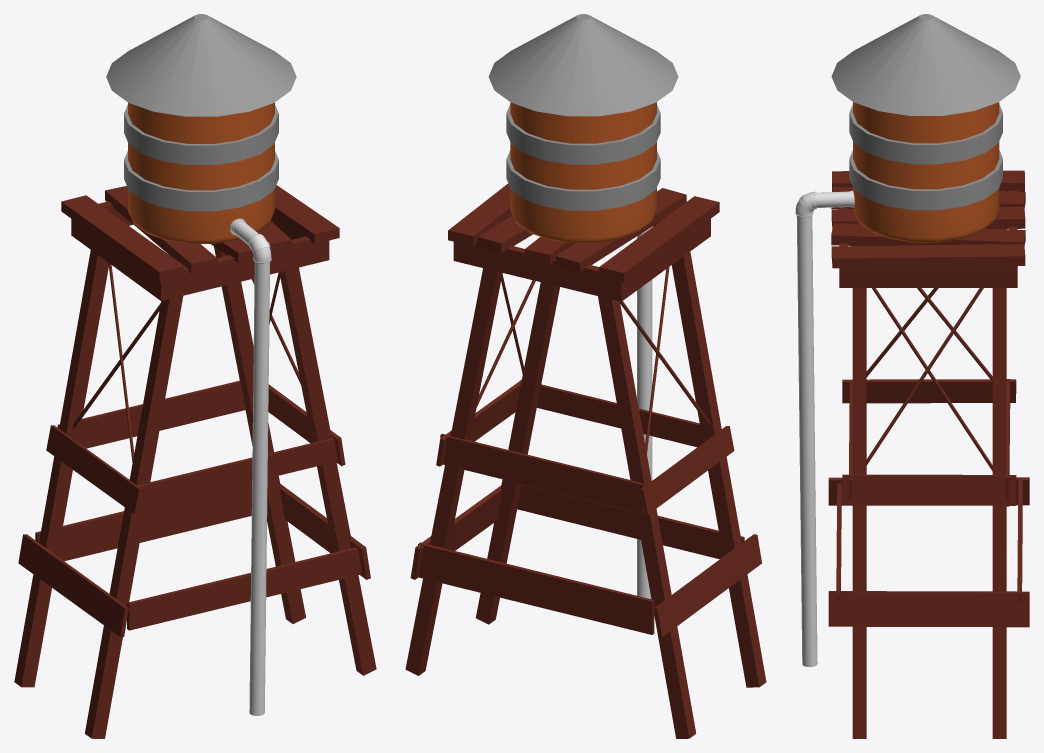
Rendered from caixa de agua2.fbx.
3 renders of one model, left to right at view 1: azimuth 30°, elevation 25°; view 2: azimuth 150°, elevation 25°; view 3: azimuth 270°, elevation 25°, orthographic.
Visible parts, largest first — view 1: Cylinder139, Box784, Cylinder140, Box786, Box785, Box797, Box800, Box783, Box787, Box793, Box796, Box798 (+9 smaller); view 2: Cylinder139, Box800, Box786, Box784, Box787, Box796, Box785, Box783, Box797, Box798, Box788, Box793 (+10 smaller); view 3: Cylinder139, Cylinder140, Box799, Box785, Box787, Box795, Box792, Box783, Box794, Box791, Box790, Line024 (+10 smaller).
Part boxes in pixels (x1,y1,x2,y2): Cylinder139: (106, 14, 296, 243); Box784: (85, 296, 183, 738); Cylinder140: (229, 218, 271, 715); Box786: (14, 250, 108, 687); Box785: (279, 267, 376, 675); Box797: (127, 547, 362, 630); Box800: (35, 482, 251, 561); Box783: (71, 201, 329, 300); Box787: (214, 246, 305, 623); Box793: (138, 436, 340, 509); Box796: (57, 380, 245, 448); Box798: (18, 534, 128, 637); Cylinder139: (488, 14, 678, 242); Box800: (418, 542, 654, 634); Box786: (598, 296, 696, 738); Box784: (671, 252, 766, 687); Box787: (405, 268, 502, 675); Box796: (440, 433, 644, 513); Box785: (475, 282, 559, 624); Box783: (453, 207, 710, 301); Box797: (517, 484, 744, 559); Box798: (653, 534, 761, 637); Box788: (599, 196, 719, 282); Box793: (520, 380, 702, 447); Cylinder139: (831, 14, 1020, 242); Cylinder140: (795, 190, 854, 666); Box799: (828, 591, 1029, 627); Box785: (852, 288, 866, 738); Box787: (992, 288, 1006, 738); Box795: (842, 474, 1016, 505); Box792: (831, 244, 1025, 268); Box783: (839, 190, 1017, 287); Box794: (842, 379, 1016, 403); Box791: (831, 223, 1025, 245); Box790: (831, 206, 1025, 228); Line024: (872, 288, 992, 470).
Bounding box in the file's own units: 3.67 × 8.15 × 2.63.
